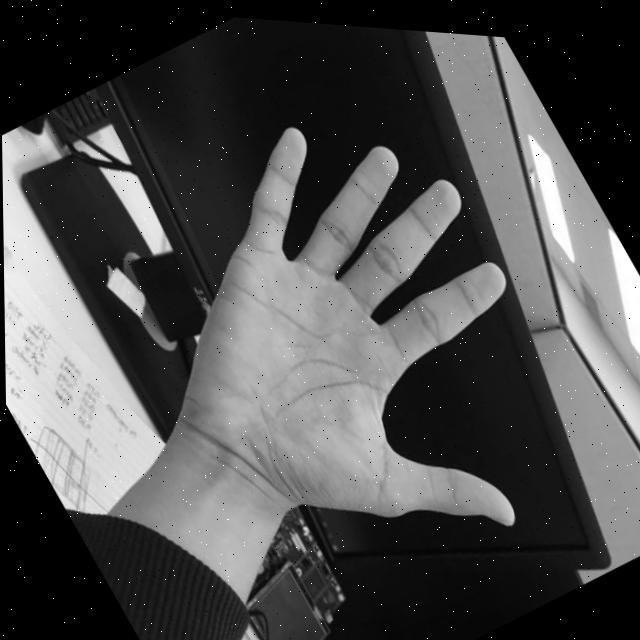no-gloves: (70, 44, 622, 640)
